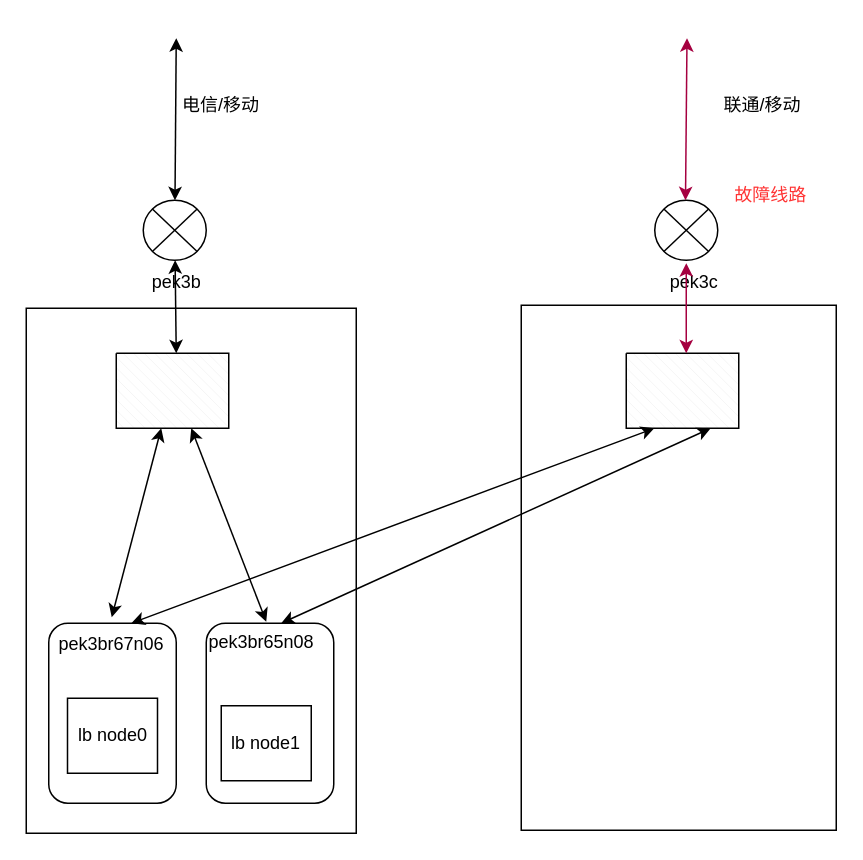
The diagram is 863 pixels wide and 860 high, and some of its shapes have lost their labels. The shapes that lost their labels are listed below. From the top down, each one's centre as x and y in pixels, then its label:
At point (172, 390): "pek3b vg".
At point (682, 390): "pek3c vg".
